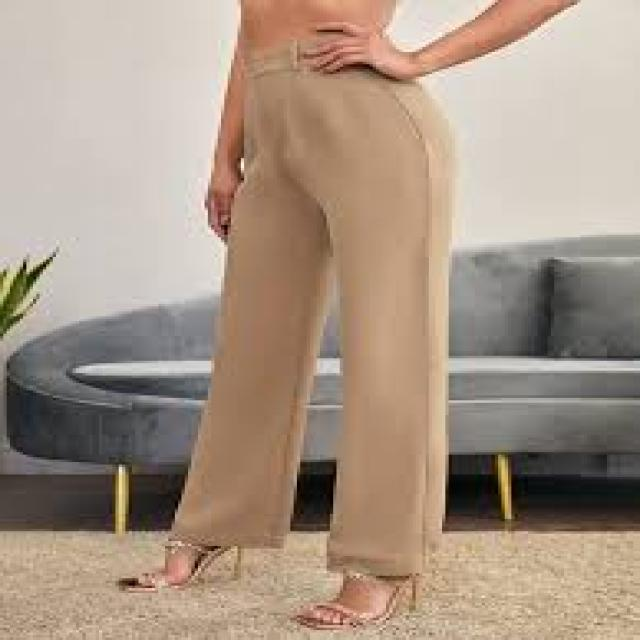pants: (167, 40, 464, 565)
